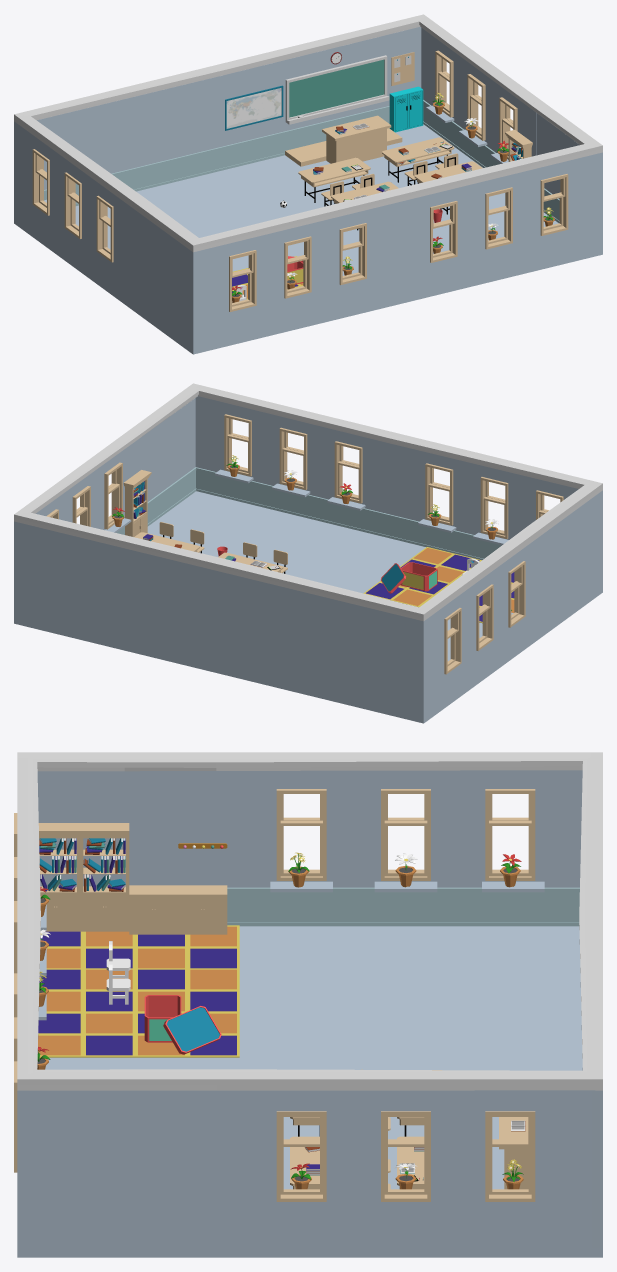
The model's file is classroom0922.fbx.
3 views of the same model, one above another, from view 1: azimuth 30°, elevation 25°; view 2: azimuth 150°, elevation 25°; view 3: azimuth 270°, elevation 25° (orthographic). The views are drawn at different scales.
Visible parts, largest first — view 1: Classroom, Classroom.001, Blackboard, Teacher_Table, World_Map, Locker, Desk.001, Desk, Teaching_Platform, Window_Frame_Out_A.003, Window_Frame_Out_A, Window_Frame_Out_B.003 (+13 smaller); view 2: Classroom, Classroom.001, Plane.002, Bookcase, Plane.005, Toychest, Window_Frame_Out_B, Window_Frame_Out_C, Window_Frame_Out_C.003, Window_Frame_Out_A, Window_Frame_Out_C.001, Window_Frame_Out_B.002 (+4 smaller); view 3: Classroom, Classroom.001, Plane.002, Plane.003, Plane.004, Bookcase.003, Plane, Plane.001, Bookcase.002, Plane.005, Toychest_lid, Toychest (+21 smaller).
Part boxes in pixels (x1=…): Classroom: x1=14, y1=14, x2=541, y2=309; Classroom.001: x1=132, y1=101, x2=602, y2=354; Blackboard: x1=285, y1=55, x2=389, y2=124; Teacher_Table: x1=322, y1=115, x2=391, y2=163; World_Map: x1=225, y1=85, x2=283, y2=130; Locker: x1=389, y1=86, x2=423, y2=132; Desk.001: x1=298, y1=157, x2=370, y2=202; Desk: x1=382, y1=137, x2=454, y2=182; Teaching_Platform: x1=285, y1=128, x2=402, y2=166; Window_Frame_Out_A.003: x1=435, y1=50, x2=453, y2=117; Window_Frame_Out_A: x1=96, y1=195, x2=113, y2=262; Window_Frame_Out_B.003: x1=467, y1=74, x2=485, y2=140; Classroom: x1=14, y1=428, x2=541, y2=723; Classroom.001: x1=132, y1=383, x2=602, y2=636; Plane.002: x1=400, y1=547, x2=481, y2=583; Bookcase: x1=123, y1=470, x2=151, y2=536; Plane.005: x1=363, y1=580, x2=449, y2=606; Toychest: x1=400, y1=562, x2=437, y2=591; Window_Frame_Out_B: x1=476, y1=584, x2=493, y2=650; Window_Frame_Out_C: x1=444, y1=608, x2=461, y2=674; Window_Frame_Out_C.003: x1=104, y1=462, x2=122, y2=529; Window_Frame_Out_A: x1=508, y1=561, x2=525, y2=627; Window_Frame_Out_C.001: x1=334, y1=441, x2=362, y2=503; Window_Frame_Out_B.002: x1=480, y1=477, x2=508, y2=538; Classroom: x1=216, y1=752, x2=602, y2=1257; Classroom.001: x1=17, y1=752, x2=216, y2=1257; Plane.002: x1=38, y1=1012, x2=135, y2=1057; Plane.003: x1=135, y1=968, x2=239, y2=1012; Plane.004: x1=135, y1=925, x2=239, y2=969; Bookcase.003: x1=80, y1=823, x2=129, y2=931; Plane: x1=39, y1=968, x2=135, y2=1012; Plane.001: x1=41, y1=931, x2=135, y2=969; Bookcase.002: x1=38, y1=823, x2=80, y2=931; Plane.005: x1=135, y1=1012, x2=239, y2=1057; Toychest_lid: x1=163, y1=1006, x2=221, y2=1054; Toychest: x1=144, y1=995, x2=181, y2=1042.
Size of the model in its own units: 1493 by 377 by 1130.
